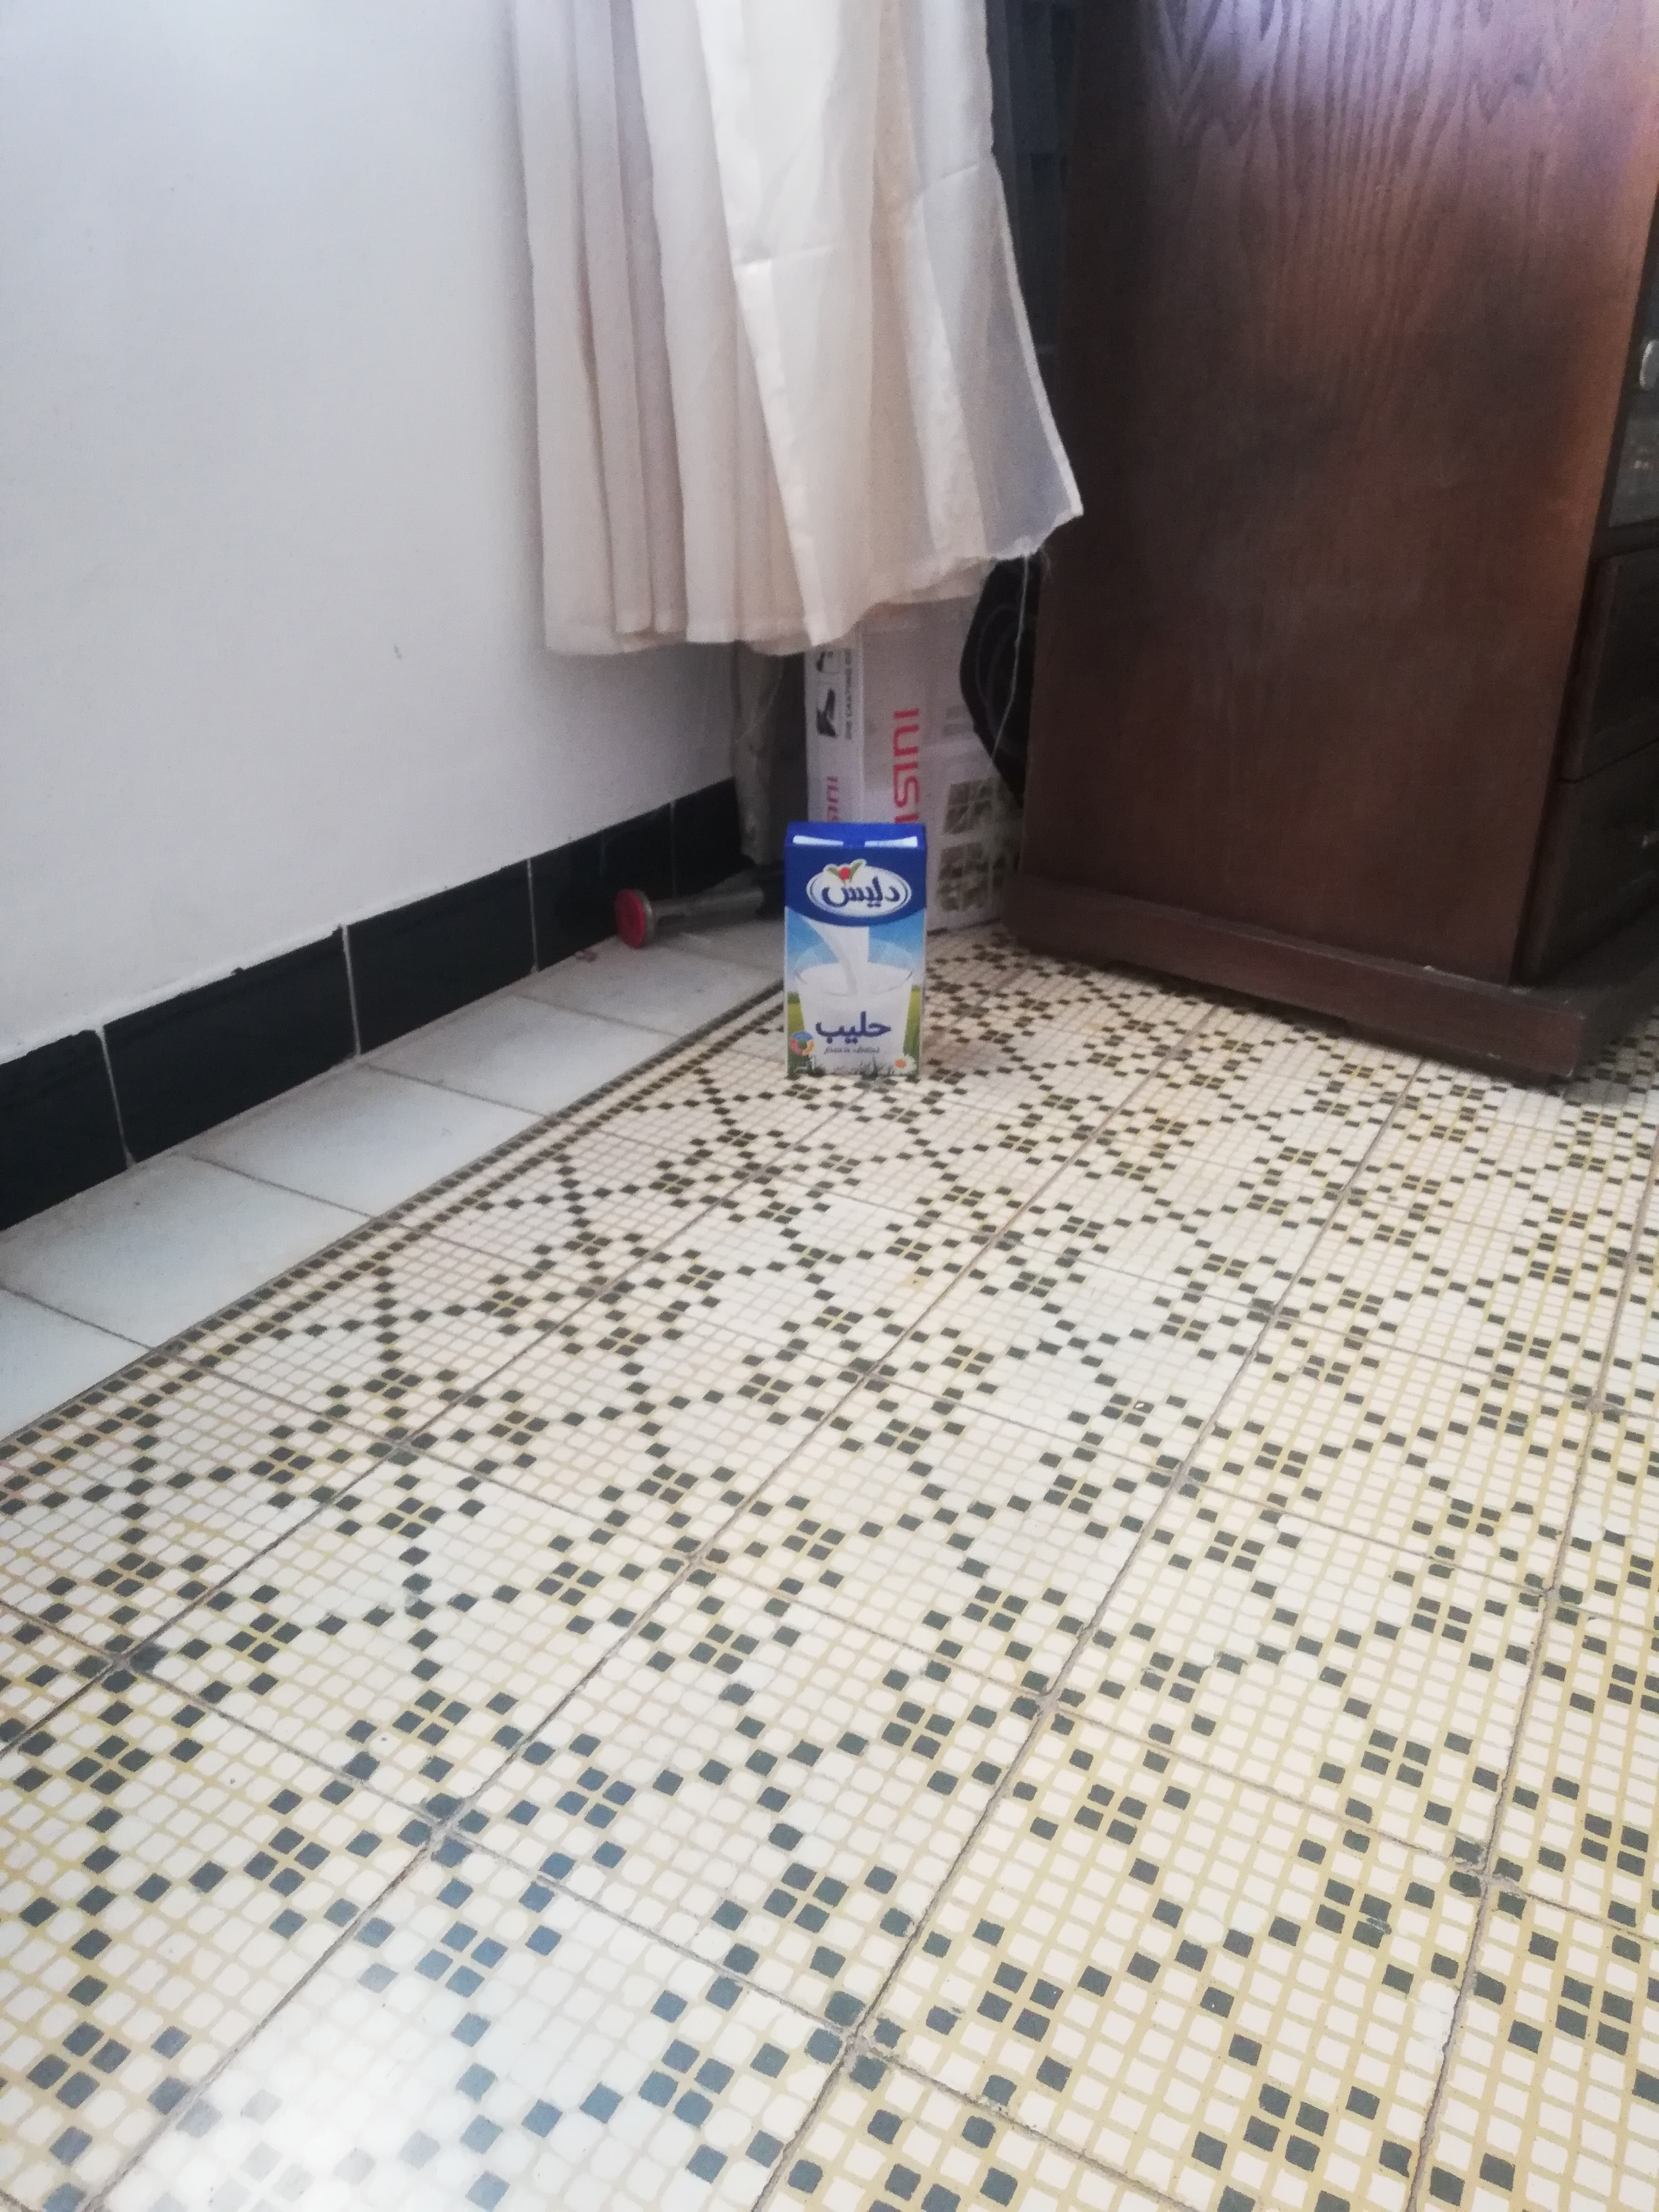Lait delice: (777, 820, 929, 1078)
